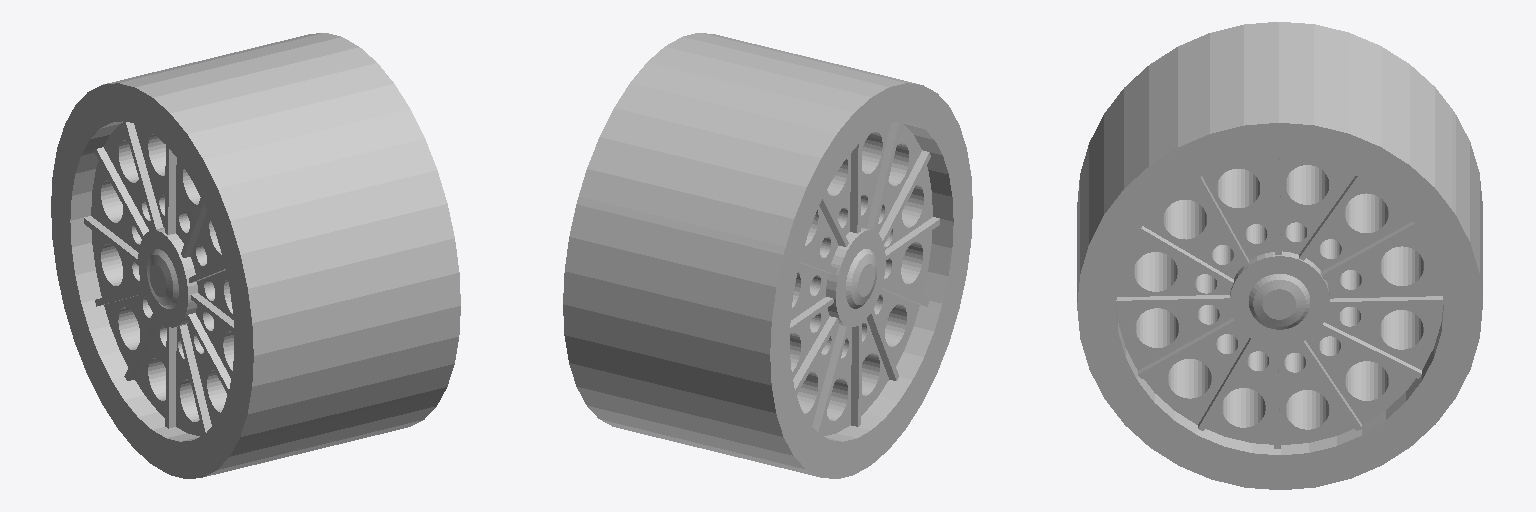
Rendered from koloL.obj.
The picture shows the model from 3 angles: view 1: azimuth 30°, elevation 25°; view 2: azimuth 150°, elevation 25°; view 3: azimuth 270°, elevation 25°; orthographic projection.
Visible parts, largest first — view 1: koła_duże.003_Cylinder.003; view 2: koła_duże.003_Cylinder.003; view 3: koła_duże.003_Cylinder.003.
Boxes of the visible parts, x1,y1,x2,y2 form: koła_duże.003_Cylinder.003: [51, 33, 460, 478]; koła_duże.003_Cylinder.003: [563, 33, 972, 478]; koła_duże.003_Cylinder.003: [1077, 22, 1482, 489].
Size of the model in its own units: 0.5795 by 0.9827 by 0.9827.